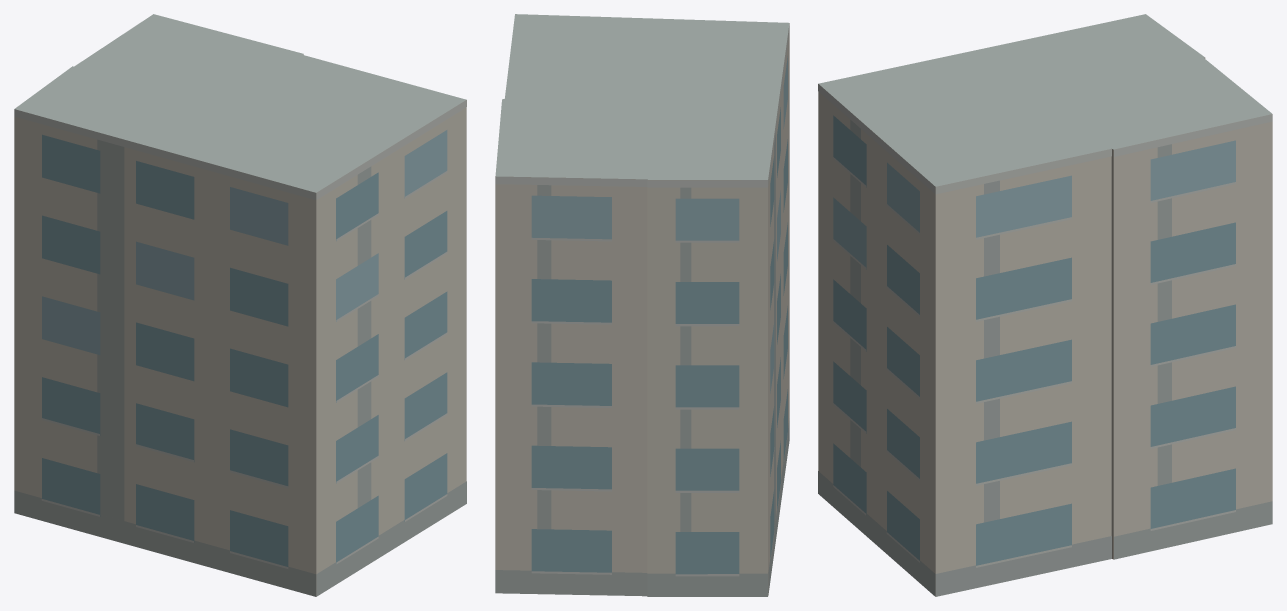
File: survey-upis-32702114.glb
3 renders of one model, left to right at view 1: azimuth 30°, elevation 25°; view 2: azimuth 150°, elevation 25°; view 3: azimuth 270°, elevation 25°, orthographic. The views are drawn at different scales.
Parts seen in each view (by area): view 1: survey-upis-32702114.tmp; view 2: survey-upis-32702114.tmp; view 3: survey-upis-32702114.tmp.
Part boxes in pixels (box(x1,y1,x2,y2)): survey-upis-32702114.tmp: box(14, 14, 466, 596); survey-upis-32702114.tmp: box(495, 14, 789, 596); survey-upis-32702114.tmp: box(818, 14, 1272, 596).
Size of the model in its own units: 11.94 by 13.2 by 13.27.
